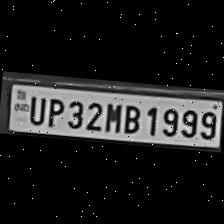1: (140, 102, 161, 137)
2: (81, 98, 104, 133)
3: (62, 96, 86, 130)
9: (158, 104, 181, 138), (177, 104, 200, 138), (196, 106, 218, 140)
B: (119, 100, 142, 136)
M: (102, 99, 123, 134)
P: (44, 94, 66, 128)
U: (24, 94, 46, 125)
